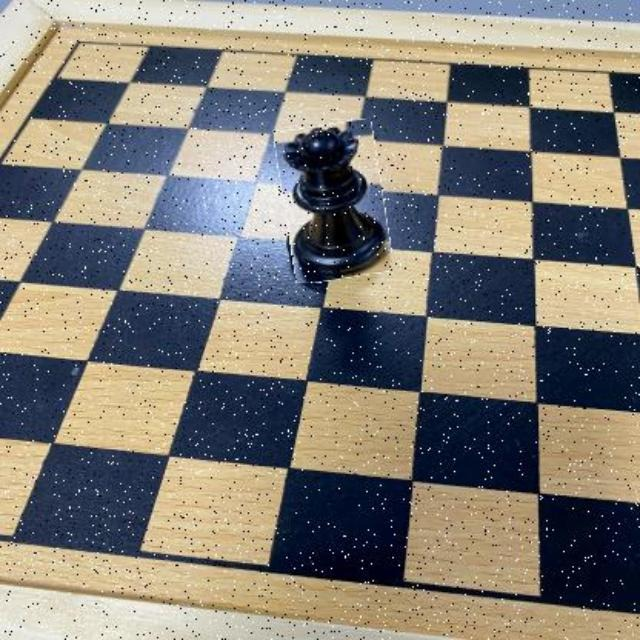black-queen: (279, 122, 388, 282)
